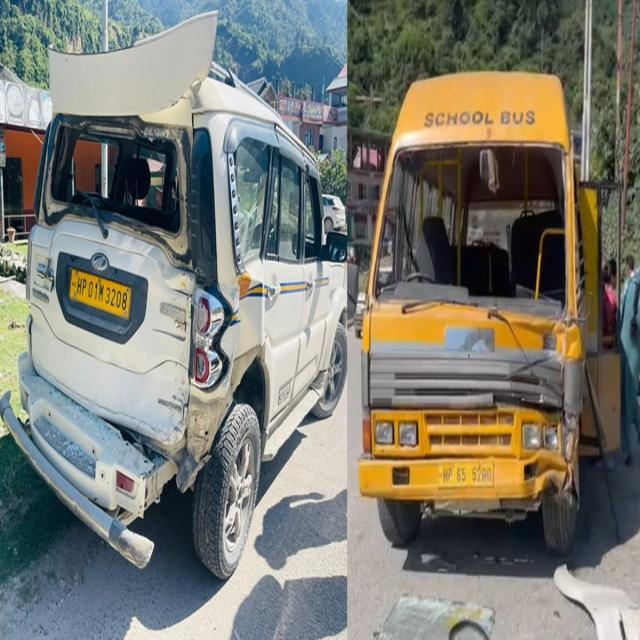accident: (0, 12, 346, 578), (359, 73, 620, 553)
